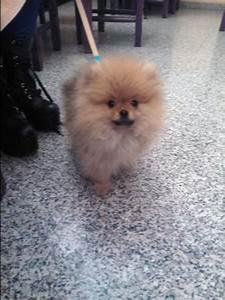dog: (60, 54, 167, 197)
